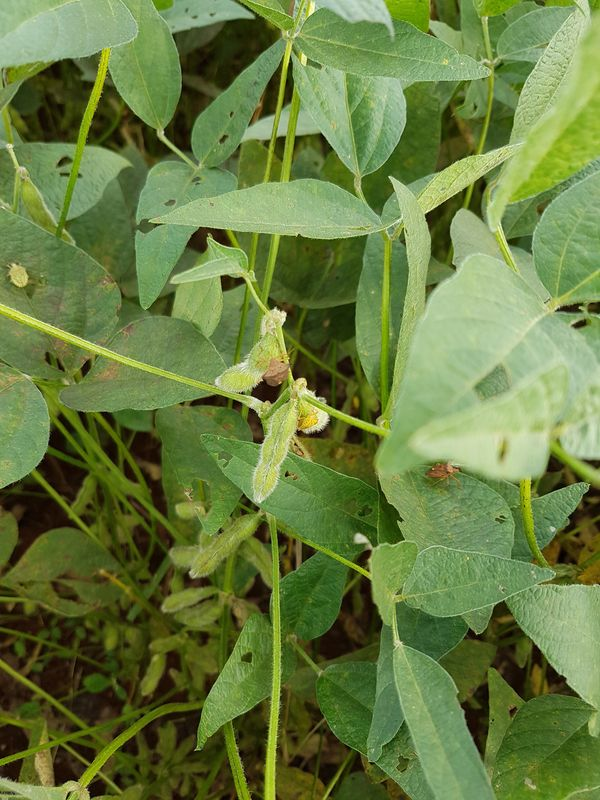Euschistus_heros_adulto: (417, 453, 466, 496), (253, 347, 296, 393)
Euschistus_heros_ninfa: (291, 400, 327, 435), (1, 258, 33, 293)
